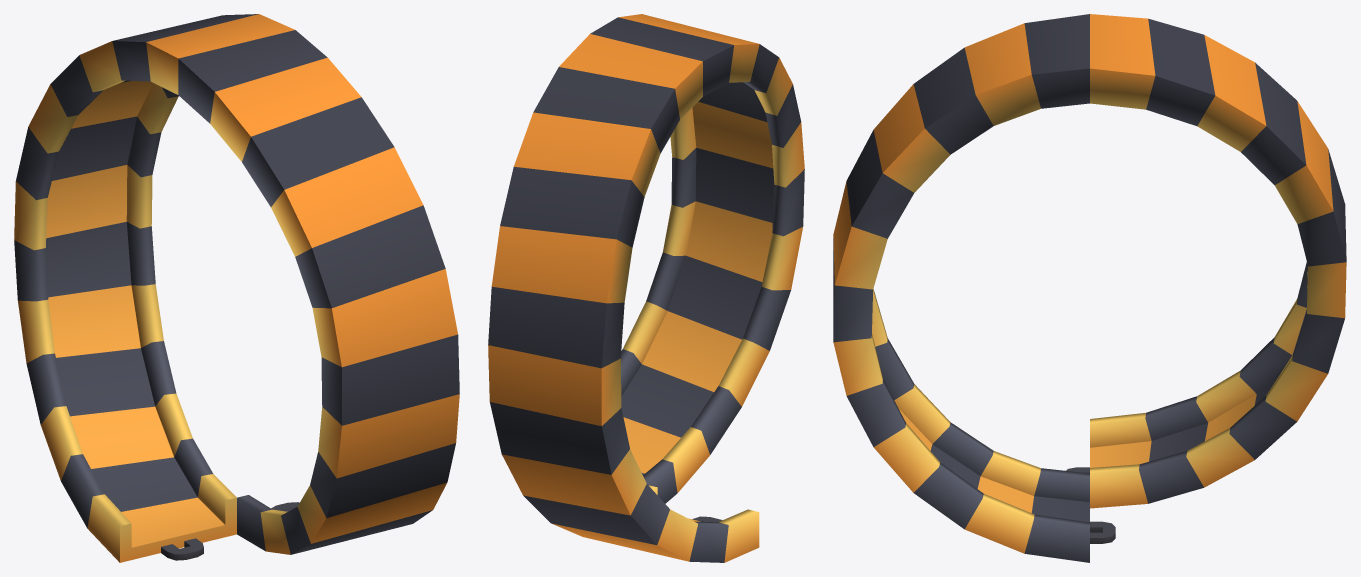
Rendered from track-striped-narrow-looping.fbx.
3 renders of one model, left to right at view 1: azimuth 30°, elevation 25°; view 2: azimuth 150°, elevation 25°; view 3: azimuth 270°, elevation 25°, orthographic. The views are drawn at different scales.
Visible parts, largest first — view 1: track-striped-narrow-looping; view 2: track-striped-narrow-looping; view 3: track-striped-narrow-looping.
Part boxes in pixels (<box>): track-striped-narrow-looping: <box>14,14,459,562</box>; track-striped-narrow-looping: <box>488,14,804,562</box>; track-striped-narrow-looping: <box>833,14,1346,562</box>.
Size of the model in its own units: 200 by 400 by 398.
